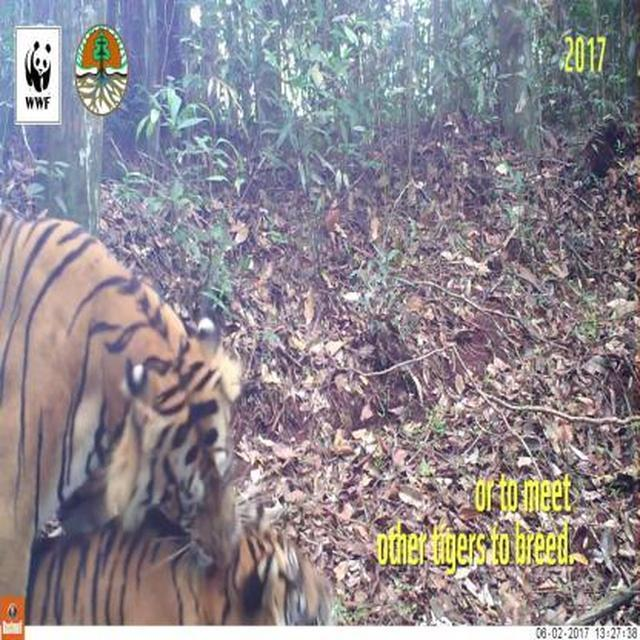tiger: (0, 199, 333, 625), (23, 500, 333, 625)
